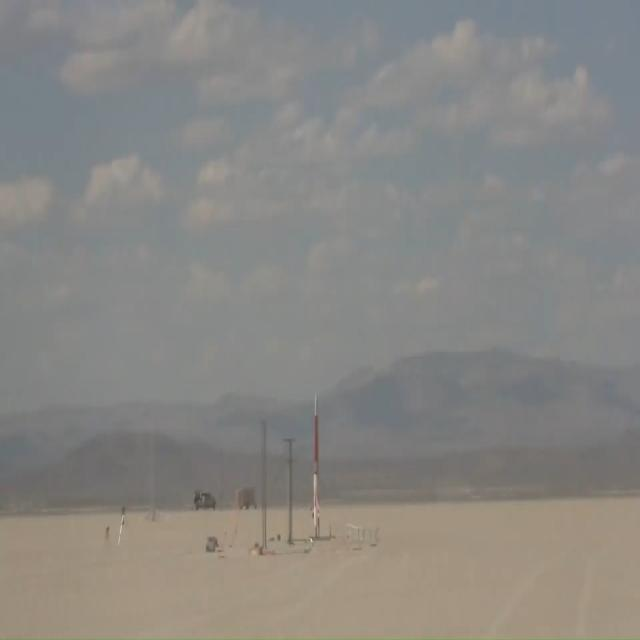Rocket: (311, 393, 320, 528)
